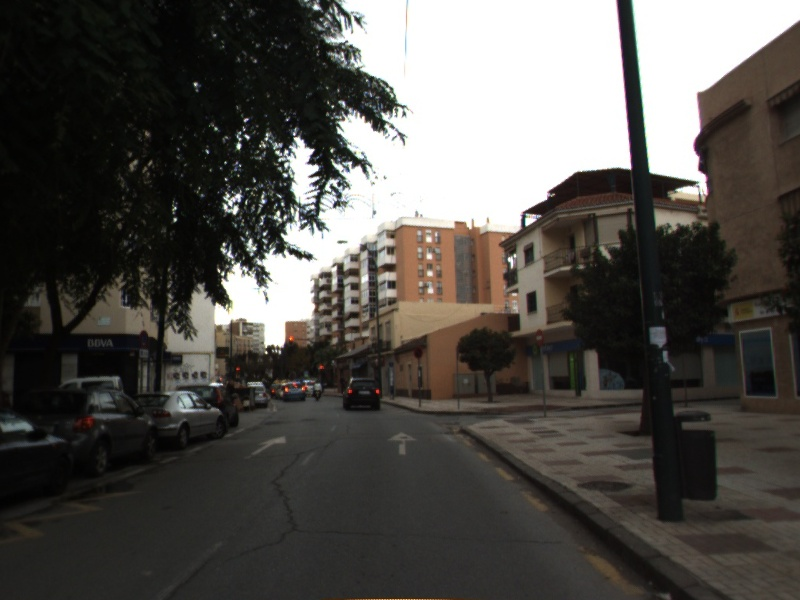STRAIGHT: (249, 434, 290, 457), (385, 430, 419, 457)
